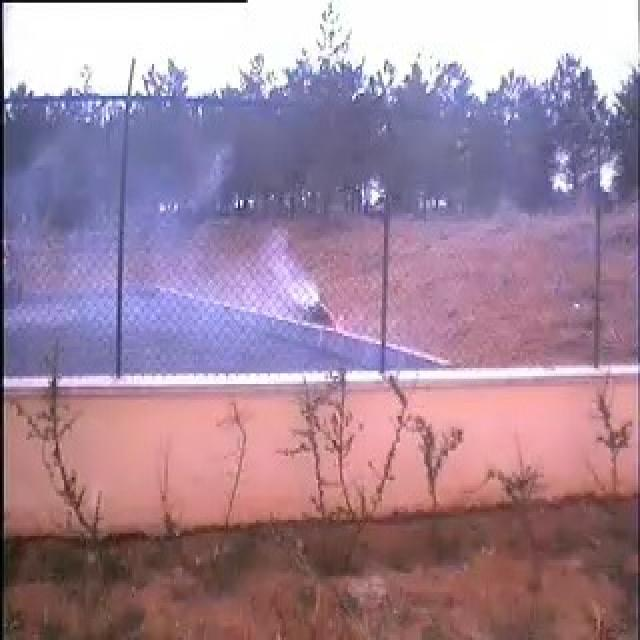smoke: (119, 110, 325, 354)
